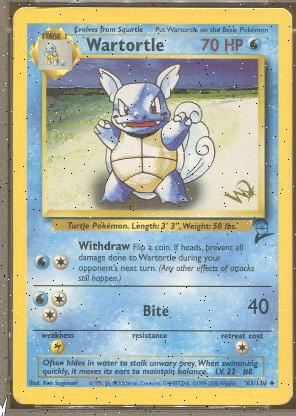Card: (10, 5, 292, 405)
